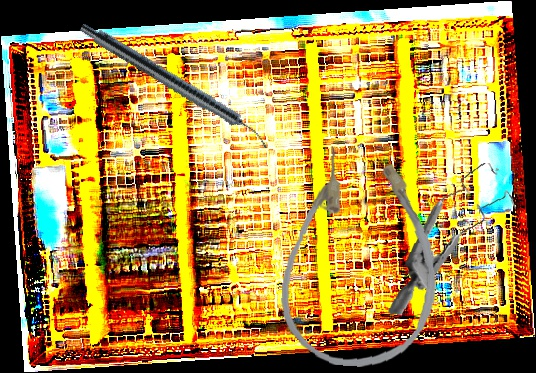Cannula: (277, 143, 445, 372)
Handpiece: (75, 19, 275, 151)
Speculum: (387, 154, 521, 326)
